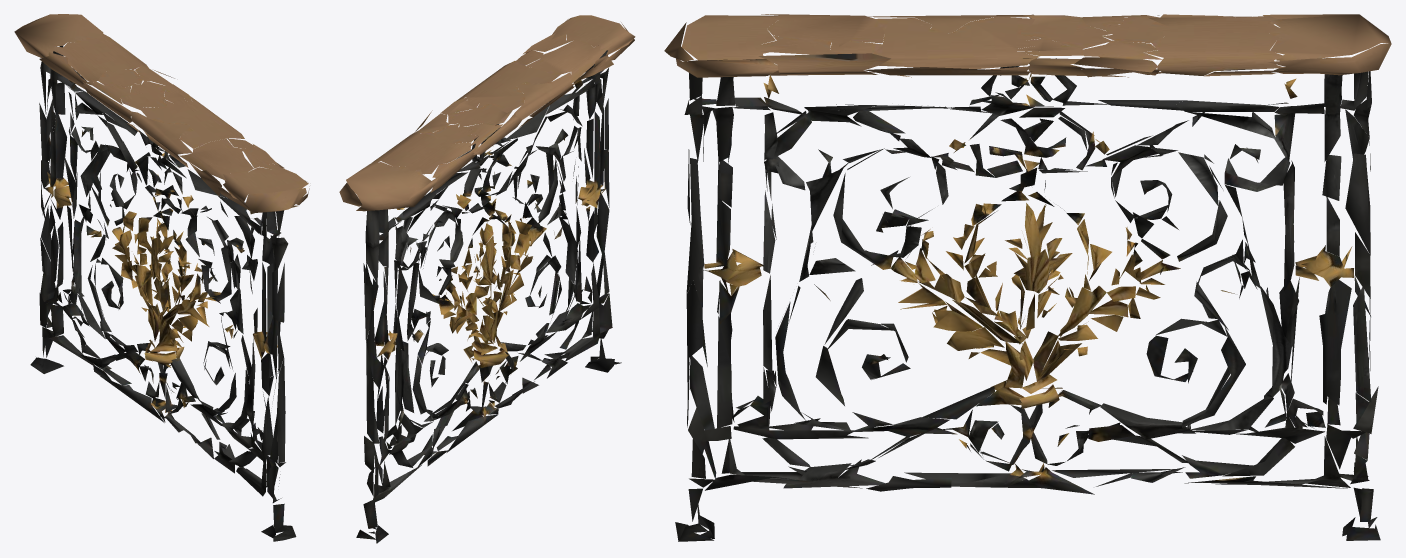
Rendered from hf_railing.glb.
The picture shows the model from 3 angles, left to right: view 1: azimuth 30°, elevation 25°; view 2: azimuth 150°, elevation 25°; view 3: azimuth 270°, elevation 25°; orthographic projection. The views are drawn at different scales.
Parts seen in each view (by area): view 1: tripo_node_c08ea310-aa07-43ee-a7c8-722e95ecd5d7; view 2: tripo_node_c08ea310-aa07-43ee-a7c8-722e95ecd5d7; view 3: tripo_node_c08ea310-aa07-43ee-a7c8-722e95ecd5d7.
Part boxes in pixels (x1=…): tripo_node_c08ea310-aa07-43ee-a7c8-722e95ecd5d7: x1=14, y1=14, x2=309, y2=541; tripo_node_c08ea310-aa07-43ee-a7c8-722e95ecd5d7: x1=339, y1=15, x2=635, y2=543; tripo_node_c08ea310-aa07-43ee-a7c8-722e95ecd5d7: x1=664, y1=14, x2=1391, y2=541.
Size of the model in its own units: 0.1651 by 0.7653 by 1.
Materials: 1 (1 with a texture image).
